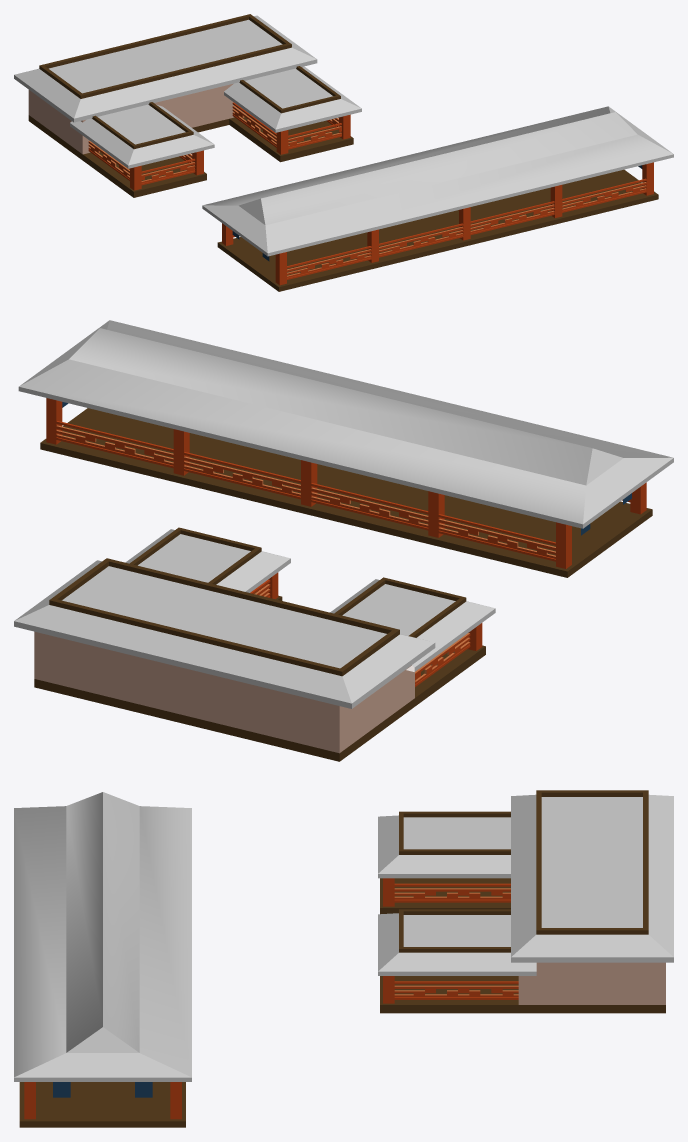
File: Buildings_Set_03.fbx
The picture shows the model from 3 angles, top to bottom: view 1: azimuth 30°, elevation 25°; view 2: azimuth 150°, elevation 25°; view 3: azimuth 270°, elevation 25°; orthographic projection. The views are drawn at different scales.
Parts seen in each view (by area): view 1: Cube.040; view 2: Cube.040; view 3: Cube.040.
Part boxes in pixels (bbox=[...]): Cube.040: bbox=[14, 14, 673, 291]; Cube.040: bbox=[14, 320, 673, 761]; Cube.040: bbox=[14, 790, 673, 1127].
Bounding box in the file's own units: 11.81 × 1.84 × 11.9.
